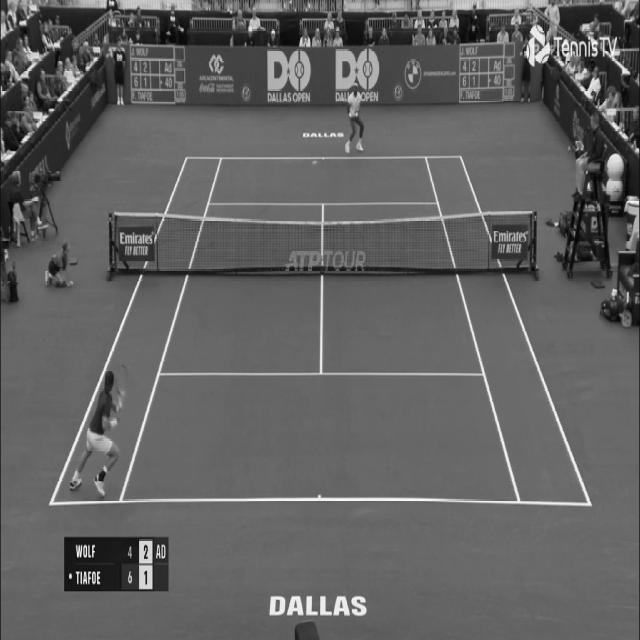tennis-court: (48, 155, 590, 507)
